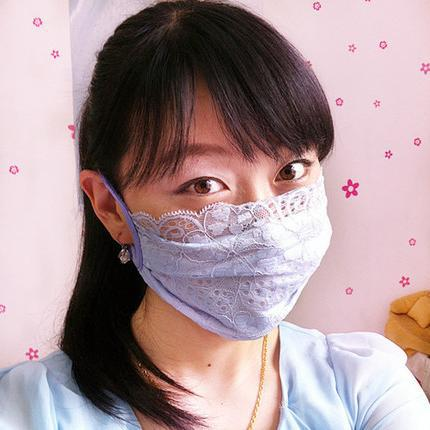OK: (129, 133, 331, 331)
